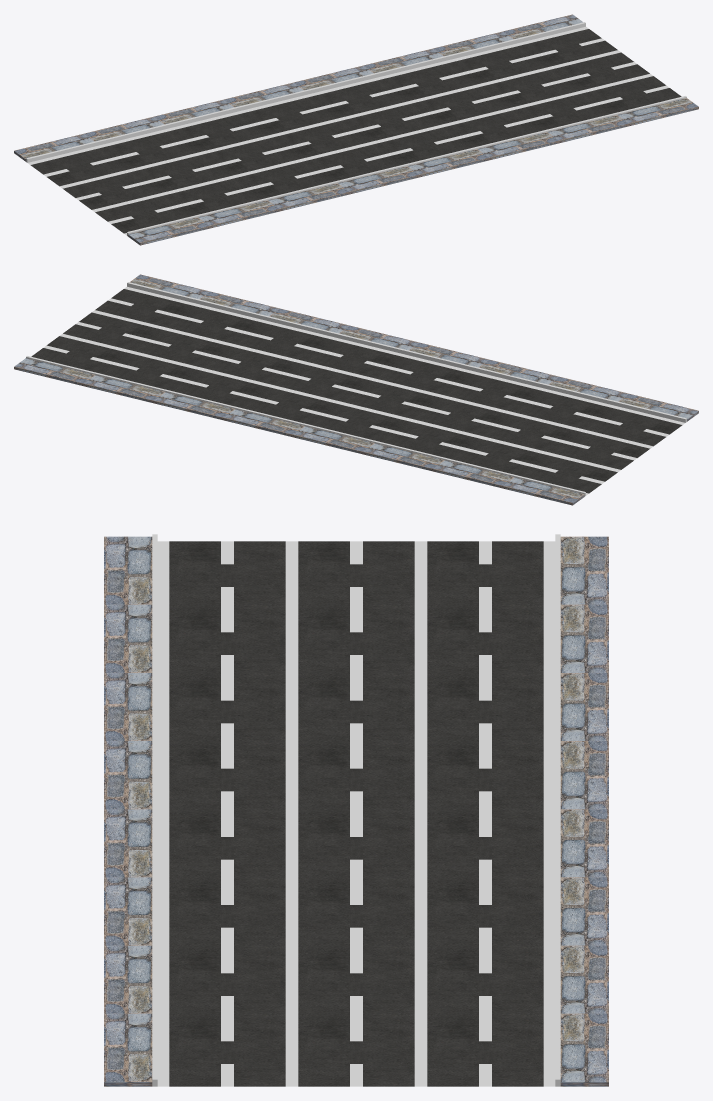
Rendered from cesta.fbx.
3 renders of one model, top to bottom at view 1: azimuth 30°, elevation 25°; view 2: azimuth 150°, elevation 25°; view 3: azimuth 270°, elevation 25°, orthographic. The views are drawn at different scales.
Visible parts, largest first — view 1: Cube.001; view 2: Cube.001; view 3: Cube.001.
Part boxes in pixels (x1,y1,x2,y2): Cube.001: [14, 14, 698, 245]; Cube.001: [14, 274, 698, 505]; Cube.001: [104, 534, 608, 1086].
Size of the model in its own units: 4800 by 30 by 1879.
